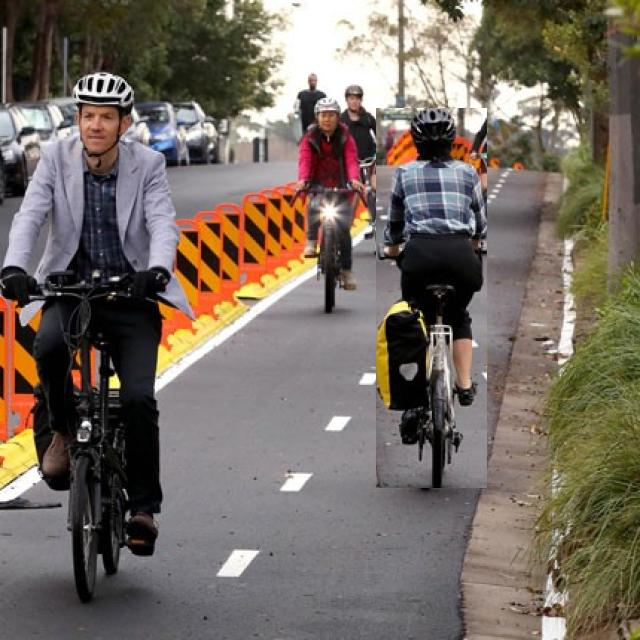bicycle: (0, 72, 193, 602), (376, 109, 486, 488), (296, 98, 363, 311)
